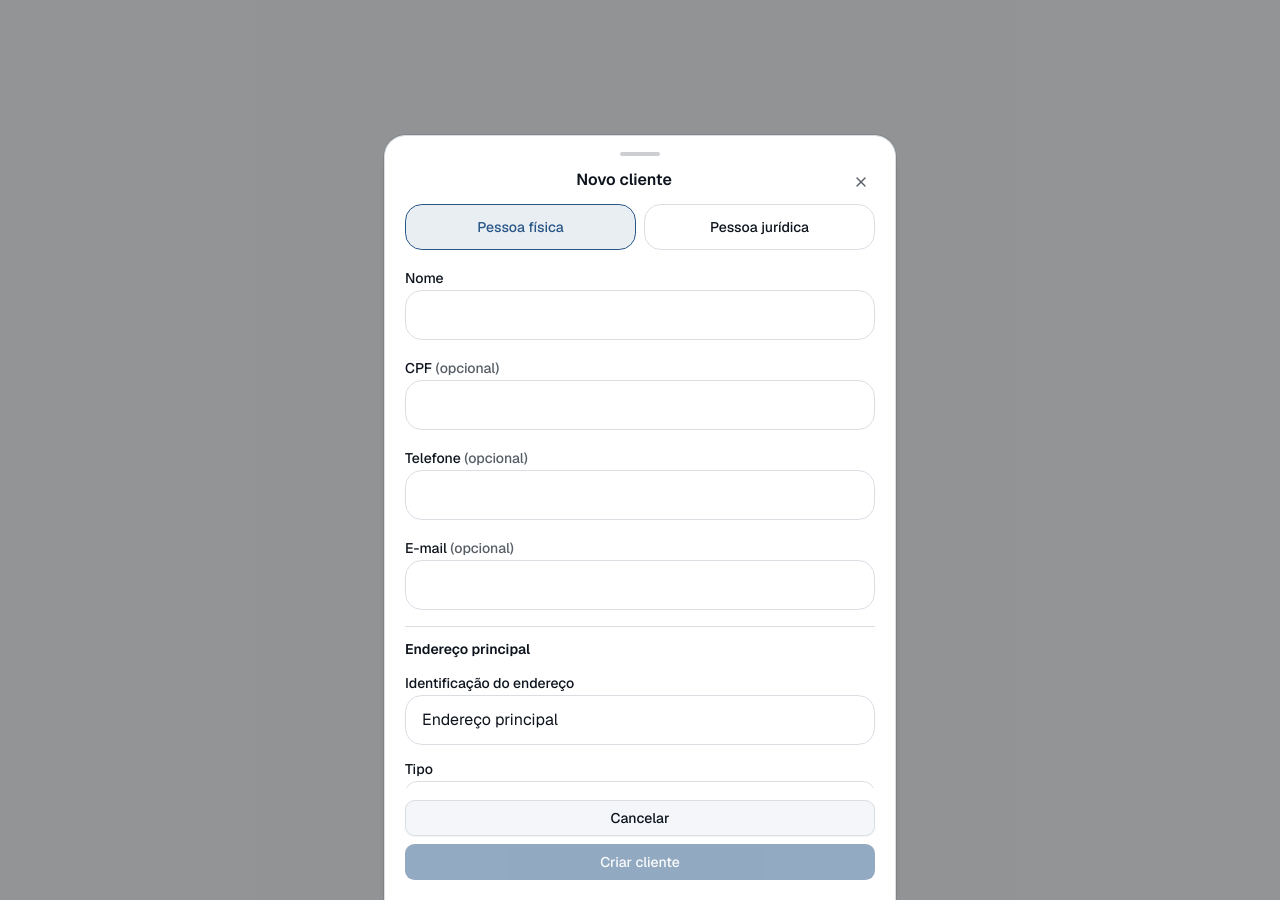
Test: QuickCustomerDialog › QC7: CNPJ lookup fills the primary address's empty fields
Click the button "Pessoa jurídica" at (760, 227), box 644,204 -> 875,250
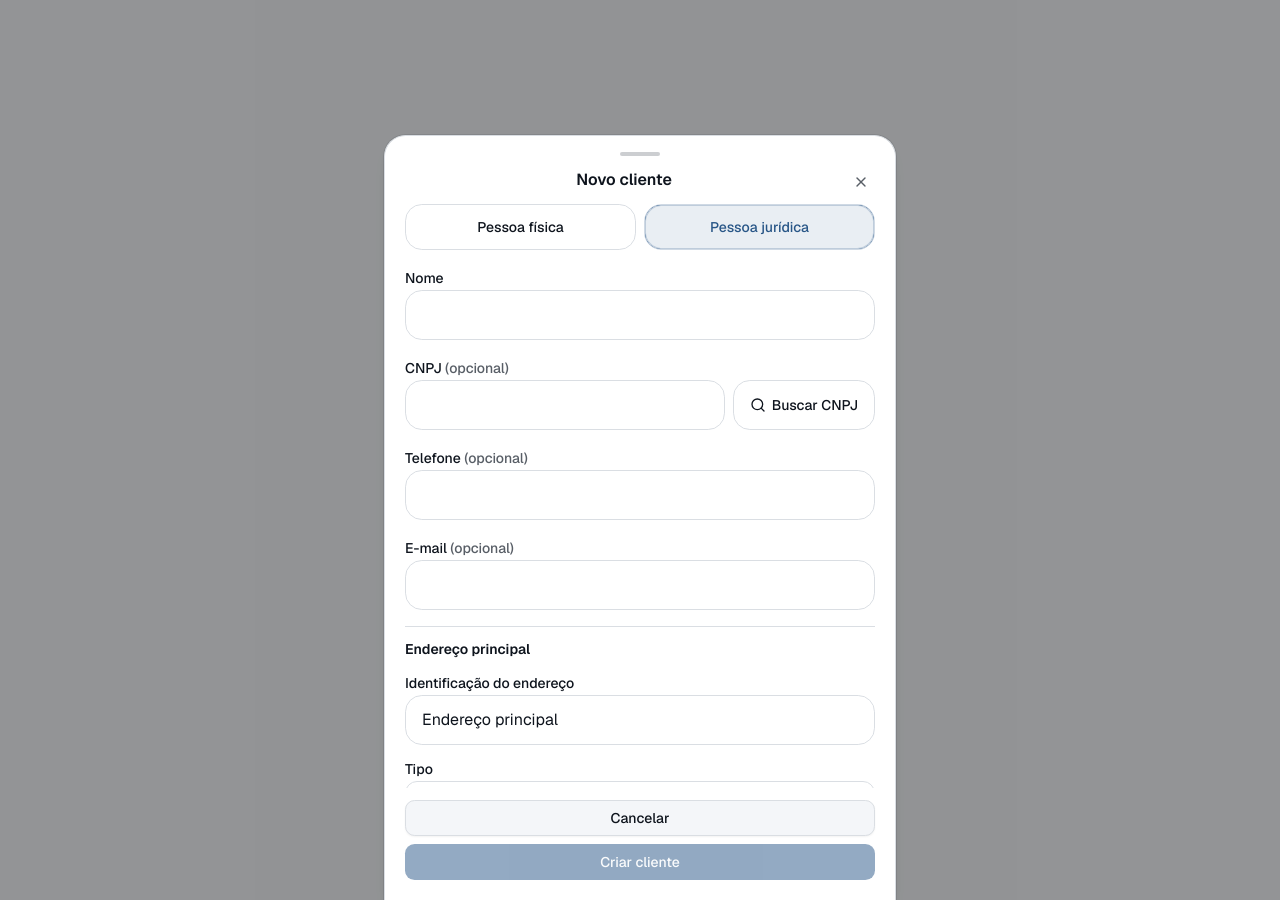
Type "12345678000199" into the field labelled "CNPJ (opcional)" at (565, 405), box 405,380 -> 725,430
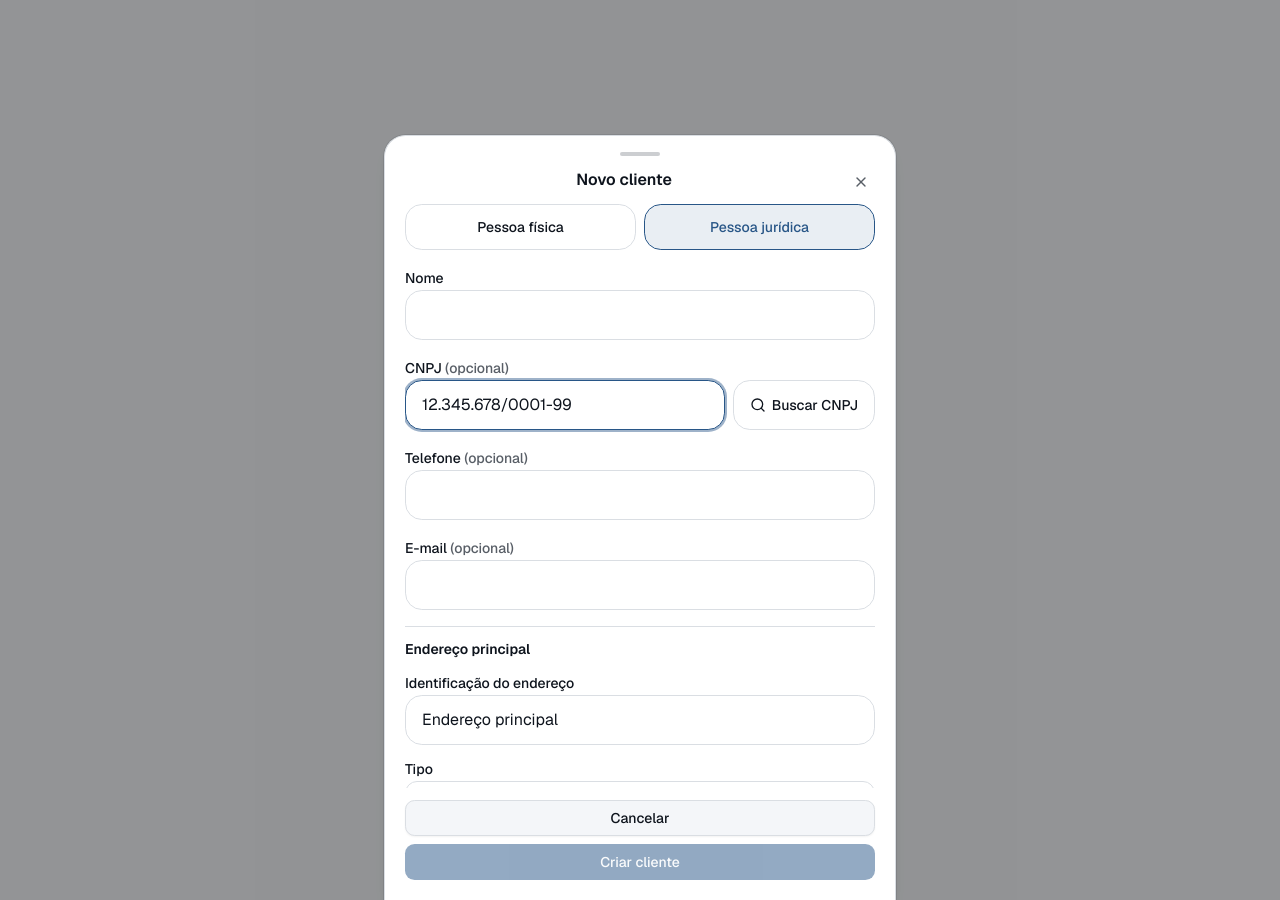
Click the button "Buscar CNPJ" at (804, 405), box 733,380 -> 875,430
(page scrolled)
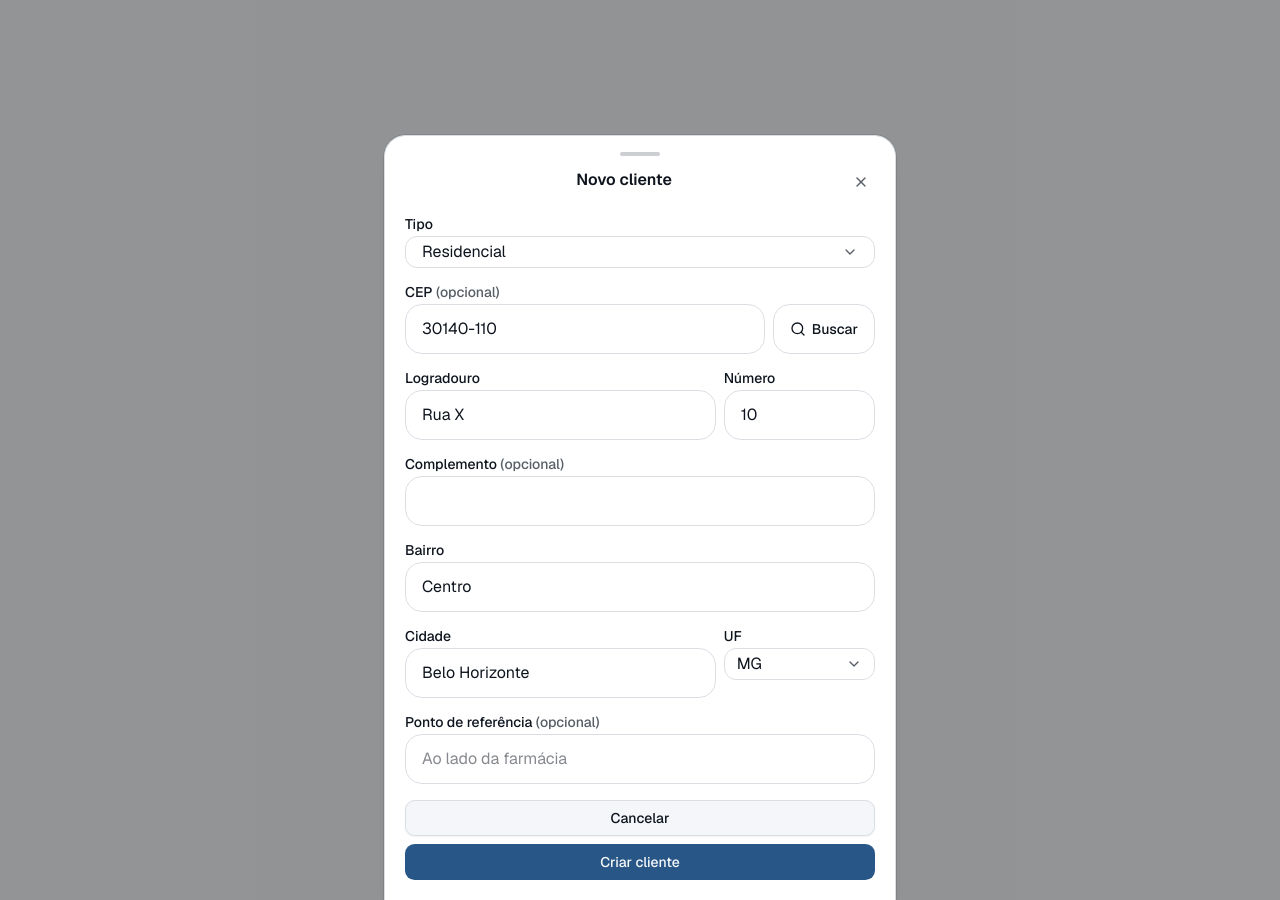
Check: the field labelled "Cidade" holds "Belo Horizonte", box 405,648 -> 716,698
